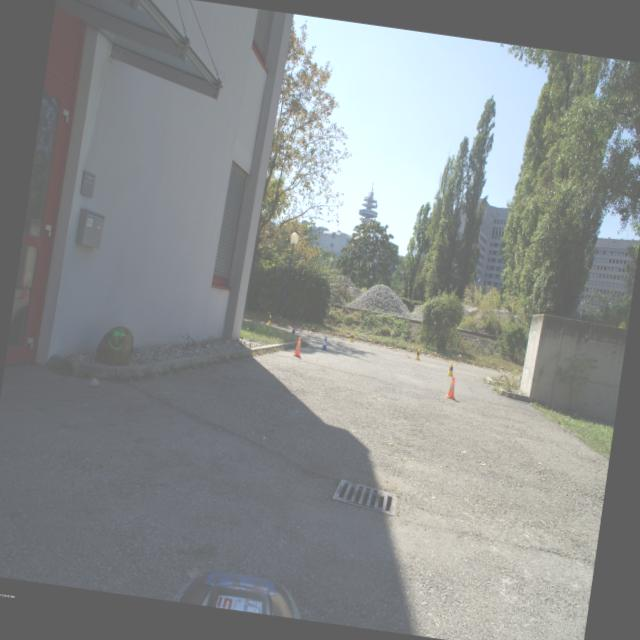blue_cone: (320, 336, 330, 352), (290, 328, 296, 334)
orange_cone: (444, 376, 461, 400), (292, 337, 304, 358)
yellow_cone: (446, 362, 456, 378), (414, 348, 422, 361), (266, 314, 274, 326), (348, 332, 355, 342)
